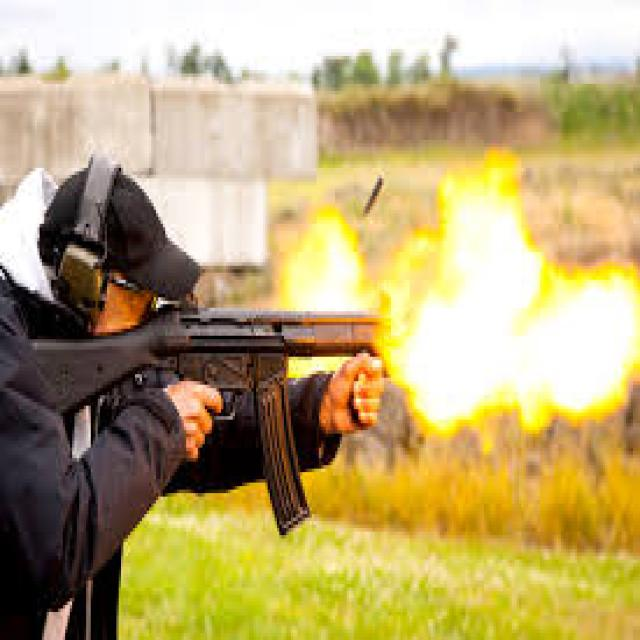gun: (11, 281, 510, 546)
